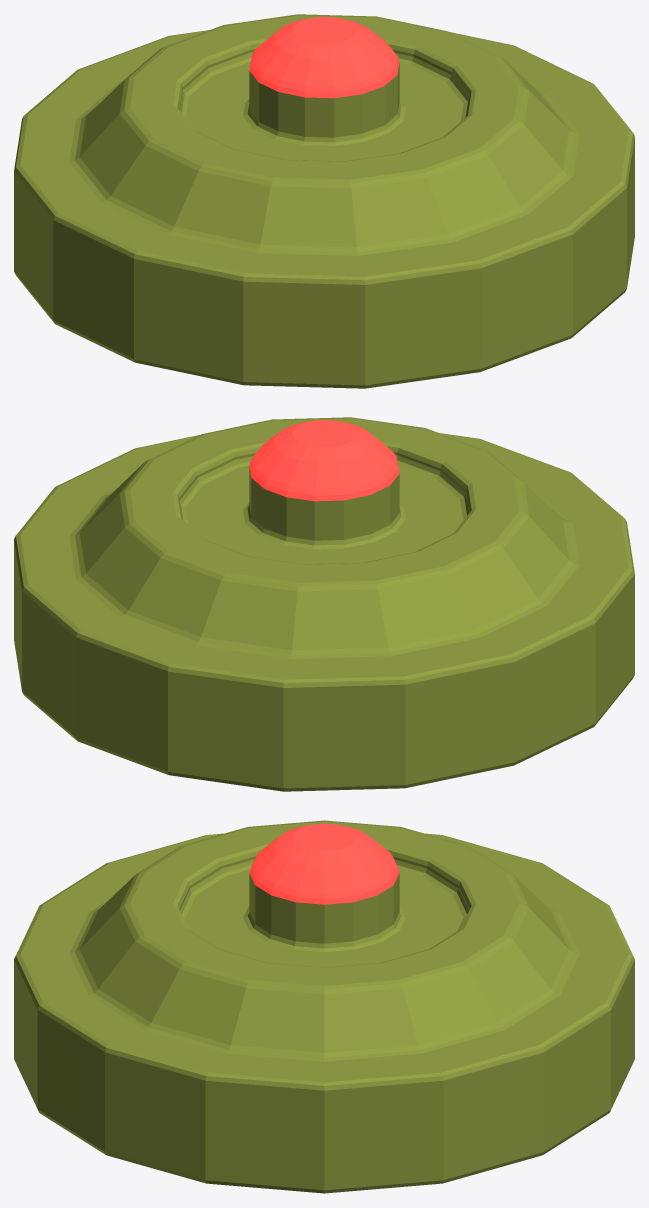
Rendered from LowPolyMine.glb.
The picture shows the model from 3 angles, top to bottom: view 1: azimuth 30°, elevation 25°; view 2: azimuth 150°, elevation 25°; view 3: azimuth 270°, elevation 25°; orthographic projection.
Parts seen in each view (by area): view 1: Cylinder; view 2: Cylinder; view 3: Cylinder.
Boxes of the visible parts, bbox=[...] form: Cylinder: bbox=[14, 14, 634, 388]; Cylinder: bbox=[14, 417, 634, 791]; Cylinder: bbox=[14, 820, 634, 1193].
Bounding box in the file's own units: 2 × 0.8081 × 2.
